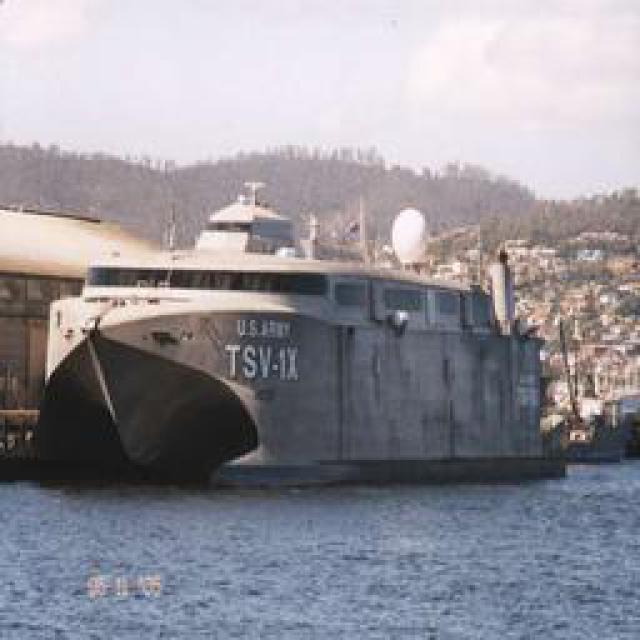Ship: (34, 195, 584, 478)
